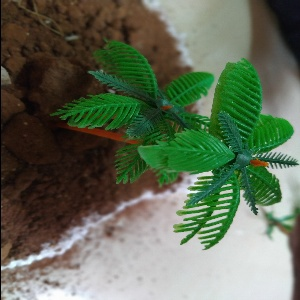plant: (170, 62, 292, 257), (58, 33, 203, 178)
